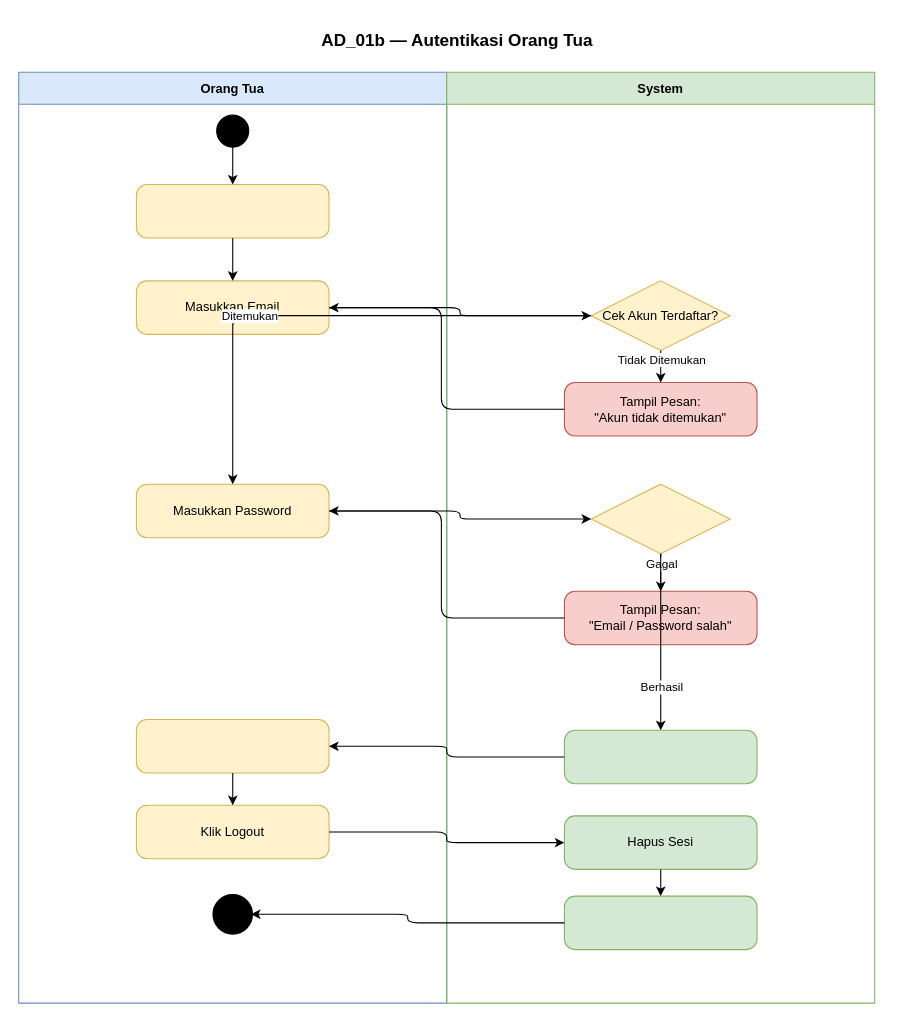
This 915x1022 diagram has some shape labels left out. Here are the shapes that lost their labels. From the top down, the centre of each, then its label:
At [232,211]: "Buka Halaman Login Orang Tua".
At [660,518]: "Validasi Password?".
At [232,746]: "Akses Beranda".
At [660,756]: "Redirect ke Beranda".
At [660,922]: "Redirect ke Halaman Login".
